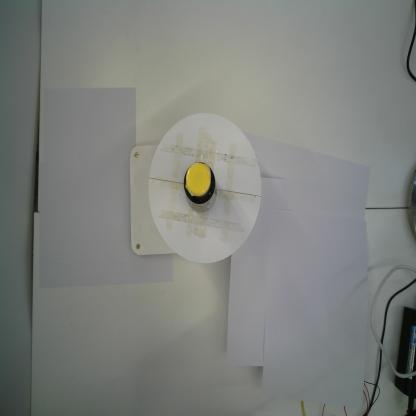Seasoner: (183, 161, 218, 214)
